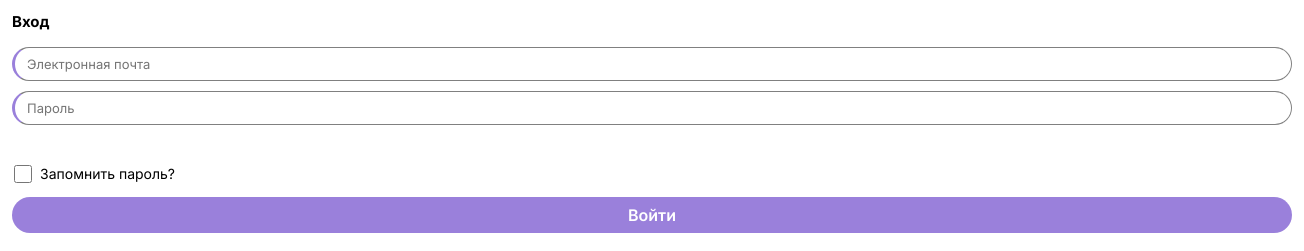
Scenario: AuthForm › отправка формы › при верных данных сообщает об успехе и запоминает пользователя
In the field labelled "Электронная почта": (652, 64) [12,46,1292,80], type "test@email.com"
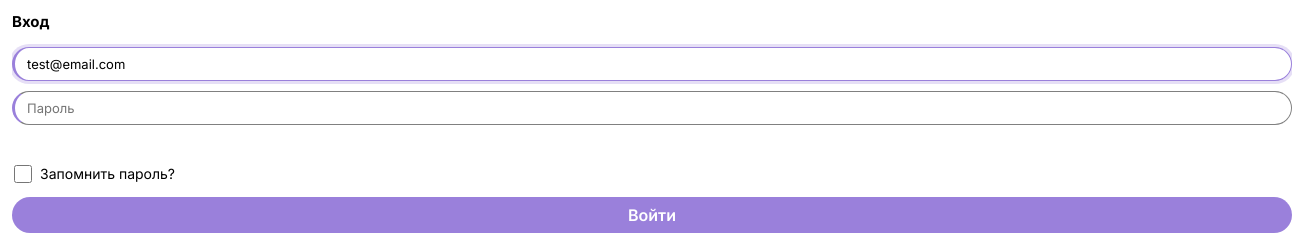
In the password field labelled "Пароль": (652, 108) [12,90,1292,124], type "abobaBebra1487"
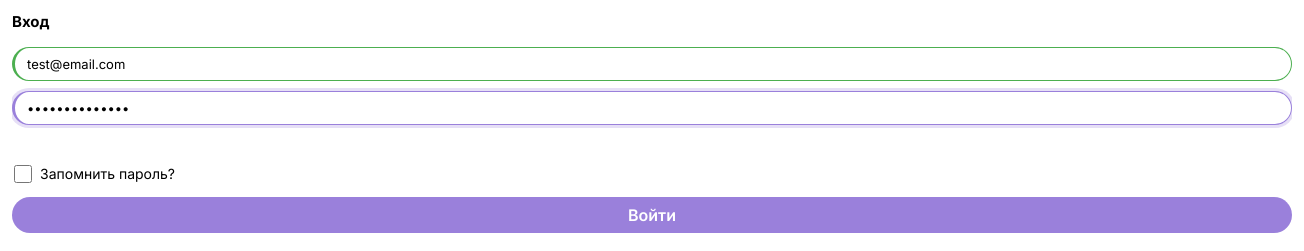
Click the button "Войти": (652, 214) [12,196,1292,232]
Wait 800 ms
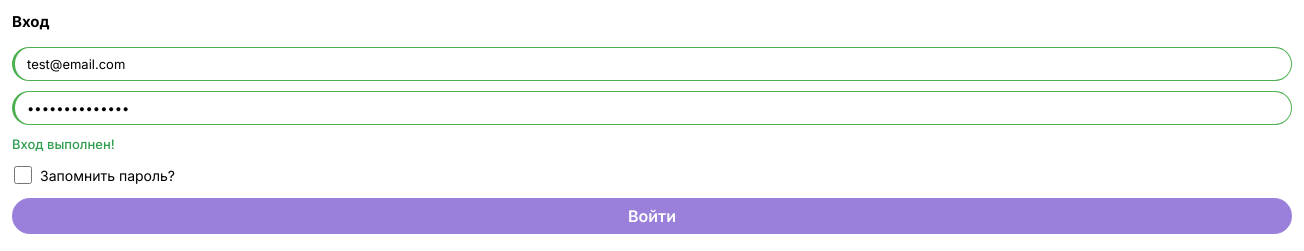
Result: the text "Вход выполнен!" is shown at [12,136,115,152]
